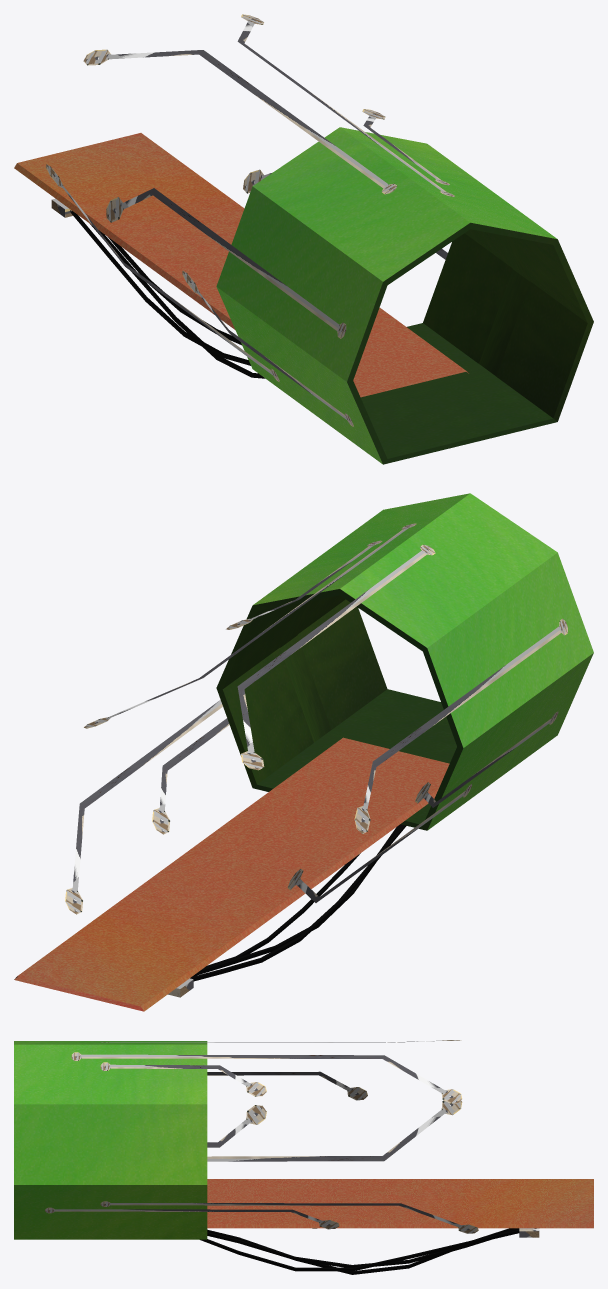
Rendered from MemeFactory_BridgeSection_Art.glb.
The picture shows the model from 3 angles, top to bottom: view 1: azimuth 30°, elevation 25°; view 2: azimuth 150°, elevation 25°; view 3: azimuth 270°, elevation 25°; orthographic projection. The views are drawn at different scales.
Visible parts, largest first — view 1: MemeFactory_BridgeSection_Art; view 2: MemeFactory_BridgeSection_Art; view 3: MemeFactory_BridgeSection_Art.
Part boxes in pixels (left/top/right/bottom): MemeFactory_BridgeSection_Art: left=14, top=14, right=593, bottom=464; MemeFactory_BridgeSection_Art: left=14, top=493, right=593, bottom=1011; MemeFactory_BridgeSection_Art: left=14, top=1040, right=593, bottom=1274.
Size of the model in its own units: 4.16 by 4.4 by 10.8.
Materials: 5 (5 with a texture image).
